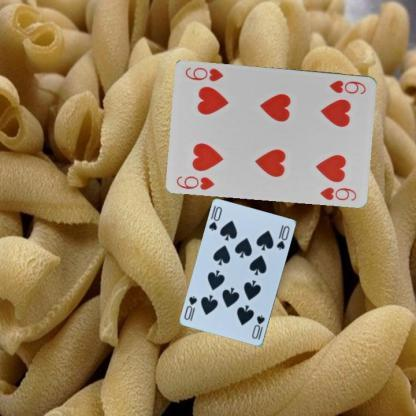10s: (248, 312, 266, 342), (206, 204, 224, 233)
6h: (174, 172, 216, 192), (326, 78, 368, 96)
